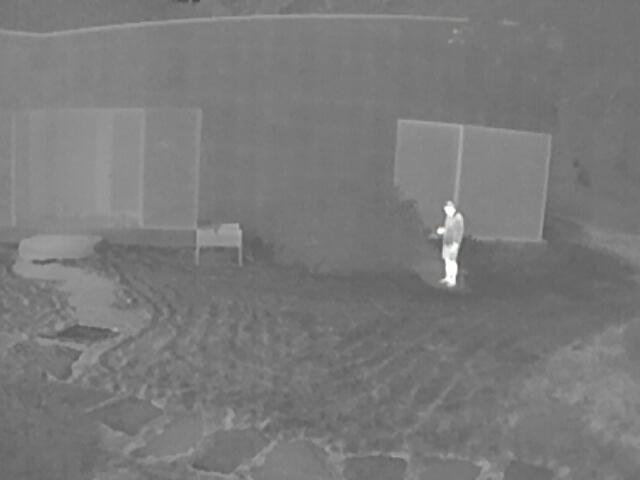person: (437, 198, 464, 286)
